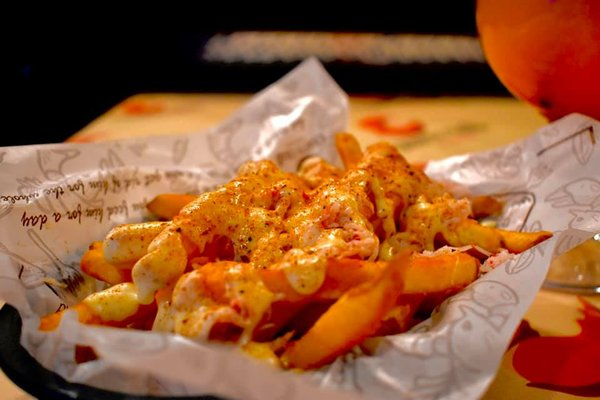taco: (475, 1, 600, 122)
